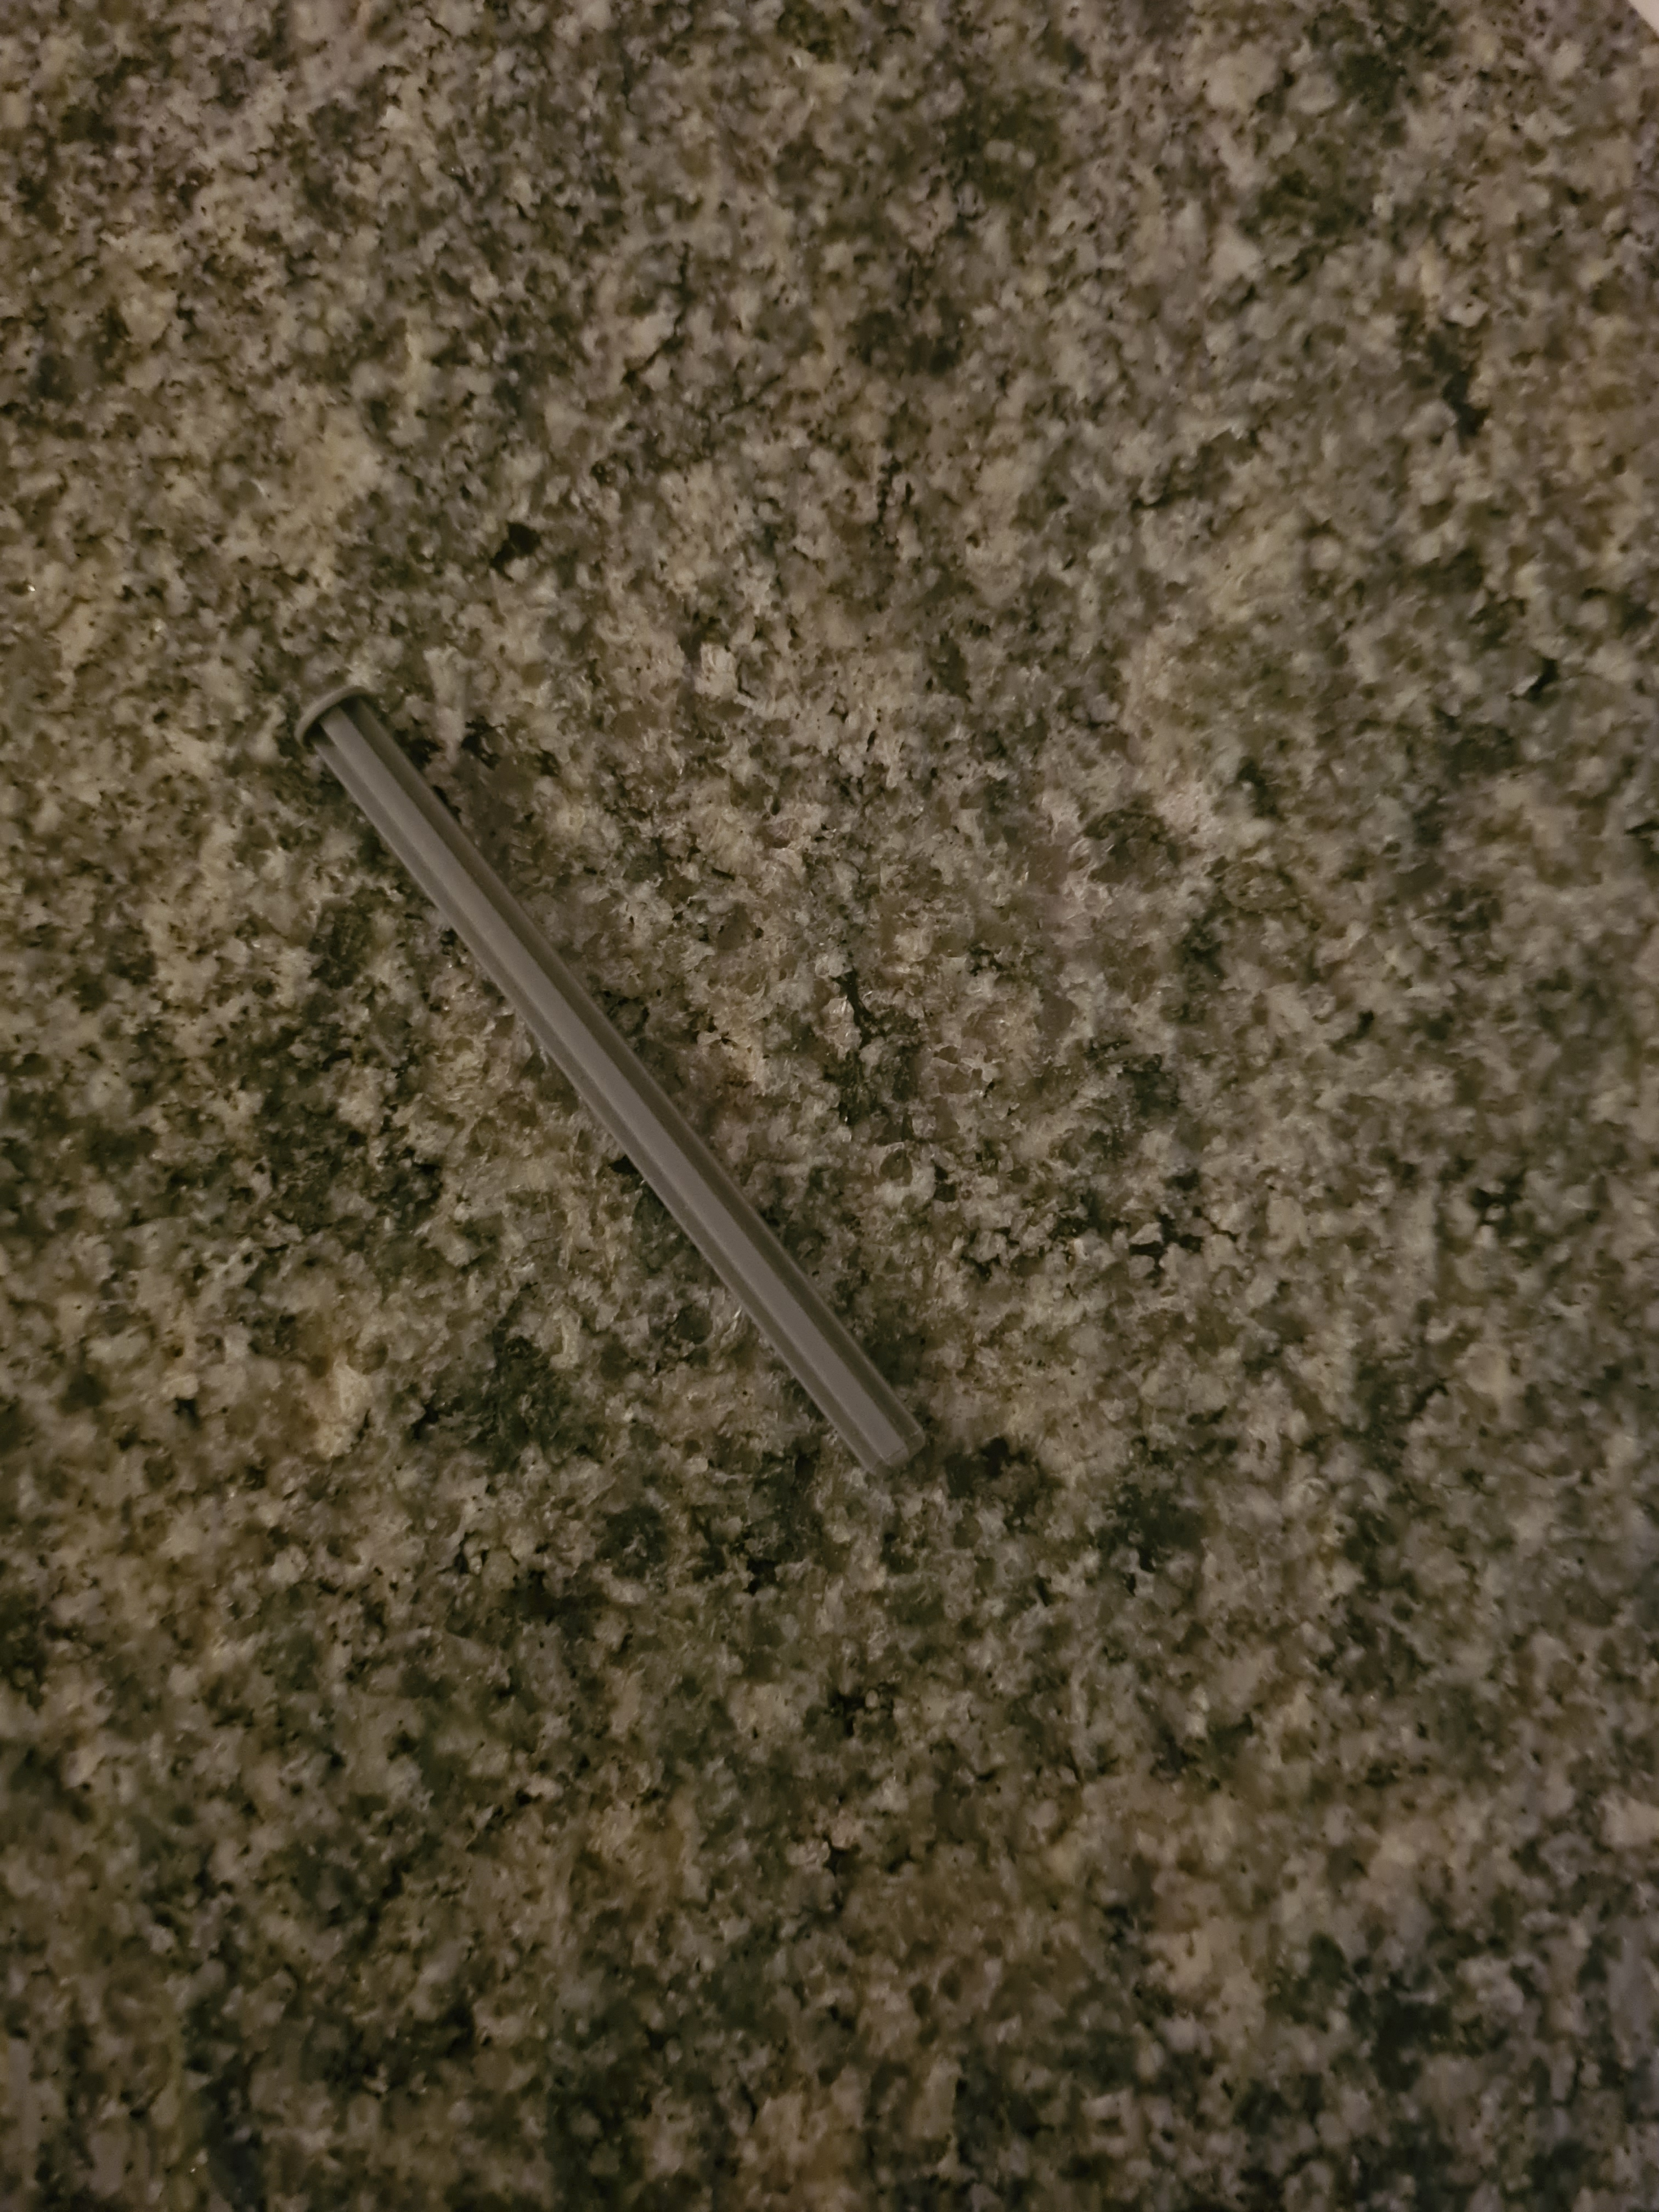Grau_lang: (291, 679, 943, 1493)
